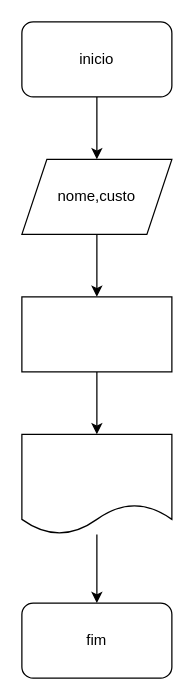
Image size: 194x700. Some labels were removed from this diagram. Each missing label, with the box of its shape:
valorVenda,nome: (21, 433, 172, 534)
valorVenda=custo+(custo*65/100): (21, 296, 172, 372)
